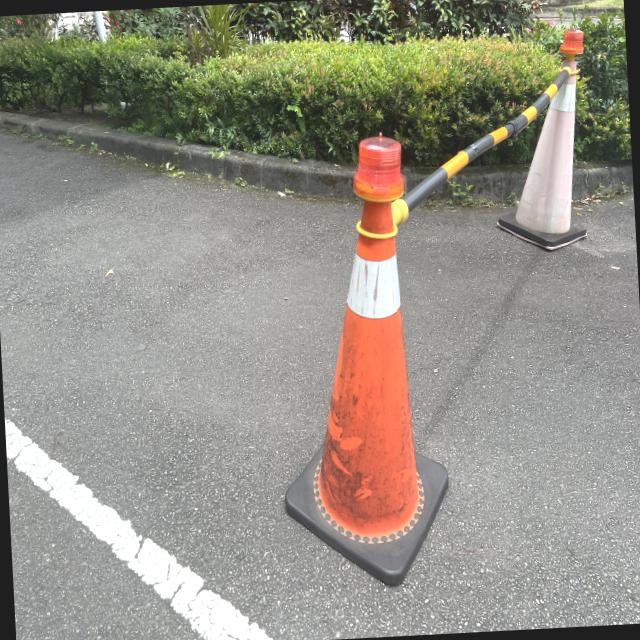cone: (290, 144, 442, 578), (500, 44, 596, 260)
